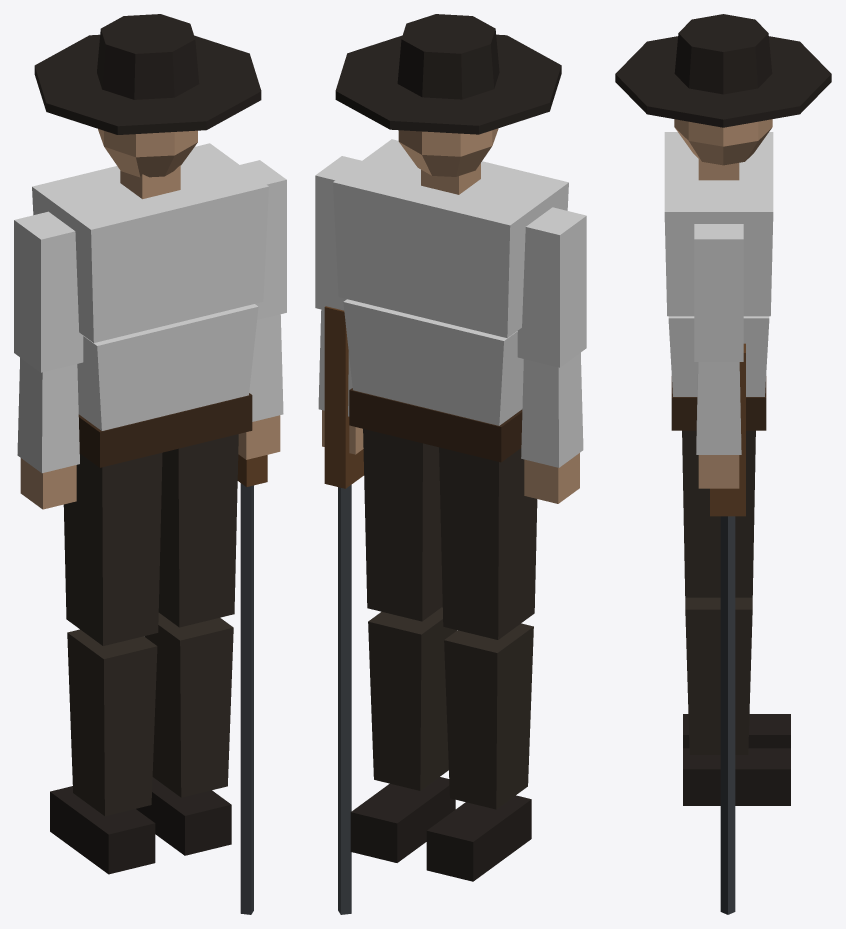
The model's file is soldier_em_musket_lod0.glb.
3 views of the same model, side by side, from view 1: azimuth 30°, elevation 25°; view 2: azimuth 150°, elevation 25°; view 3: azimuth 270°, elevation 25° (orthographic). The views are drawn at different scales.
Visible parts, largest first — view 1: em_musket_lod0_static; view 2: em_musket_lod0_static; view 3: em_musket_lod0_static.
Part boxes in pixels (bbox=[...]): em_musket_lod0_static: bbox=[14, 14, 286, 914]; em_musket_lod0_static: bbox=[315, 14, 586, 914]; em_musket_lod0_static: bbox=[615, 14, 831, 914].
Bounding box in the file's own units: 0.58 × 2.04 × 0.48.
